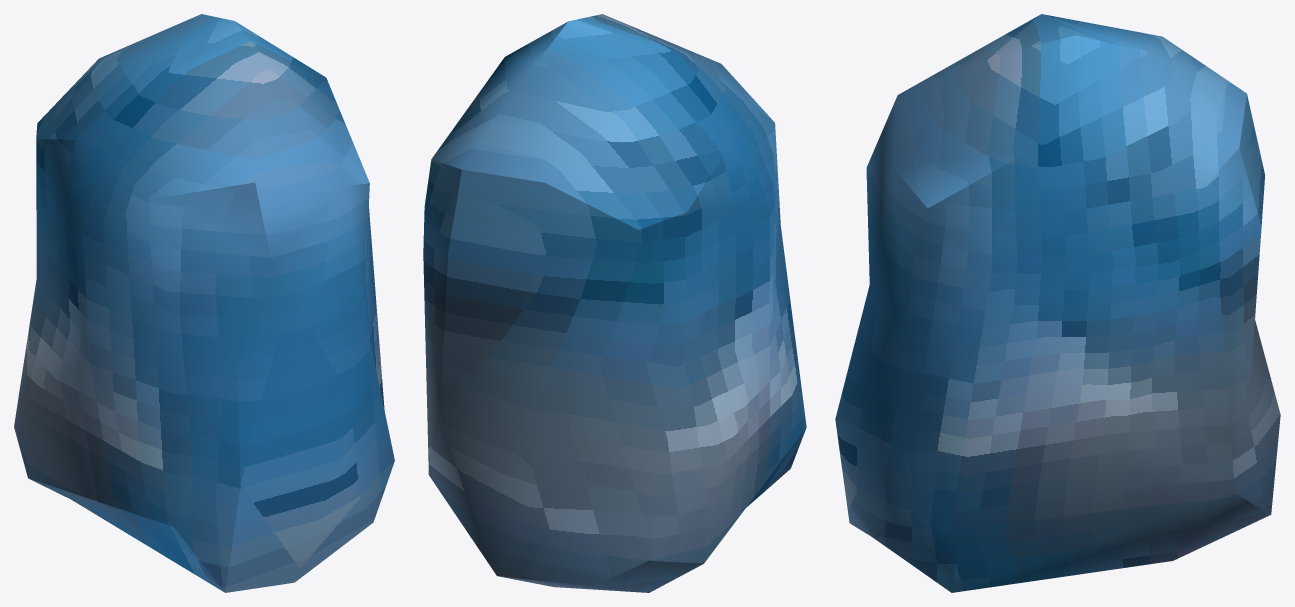
Rendered from trash_blue.glb.
3 views of the same model, side by side, from view 1: azimuth 30°, elevation 25°; view 2: azimuth 150°, elevation 25°; view 3: azimuth 270°, elevation 25° (orthographic). The views are drawn at different scales.
Visible parts, largest first — view 1: trash_blue; view 2: trash_blue; view 3: trash_blue.
Boxes of the visible parts, x1,y1,x2,y2 form: trash_blue: (14, 14, 394, 592); trash_blue: (423, 14, 806, 592); trash_blue: (835, 14, 1280, 592).
Bounding box in the file's own units: 0.3596 × 0.5926 × 0.446.
Materials: 1 (1 with a texture image).
